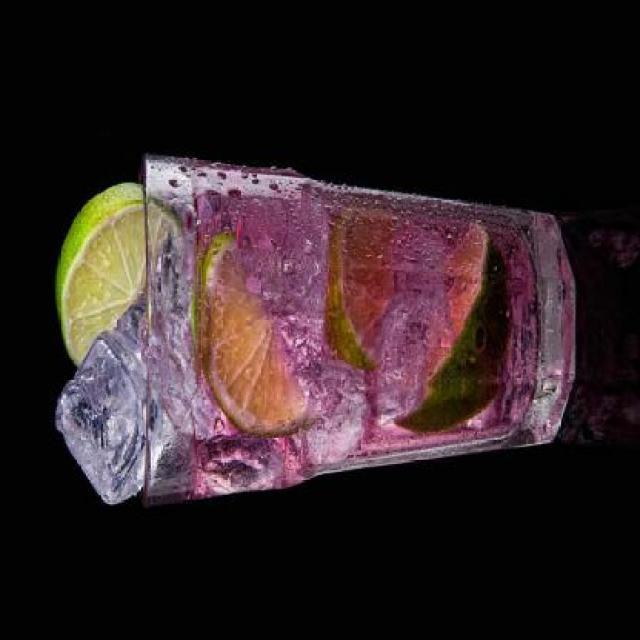Lemon: (394, 221, 504, 433), (54, 180, 183, 360), (208, 233, 312, 430), (332, 202, 394, 373)
